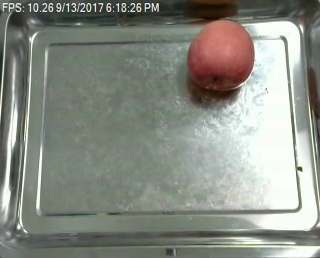Apple: (184, 19, 259, 94)
